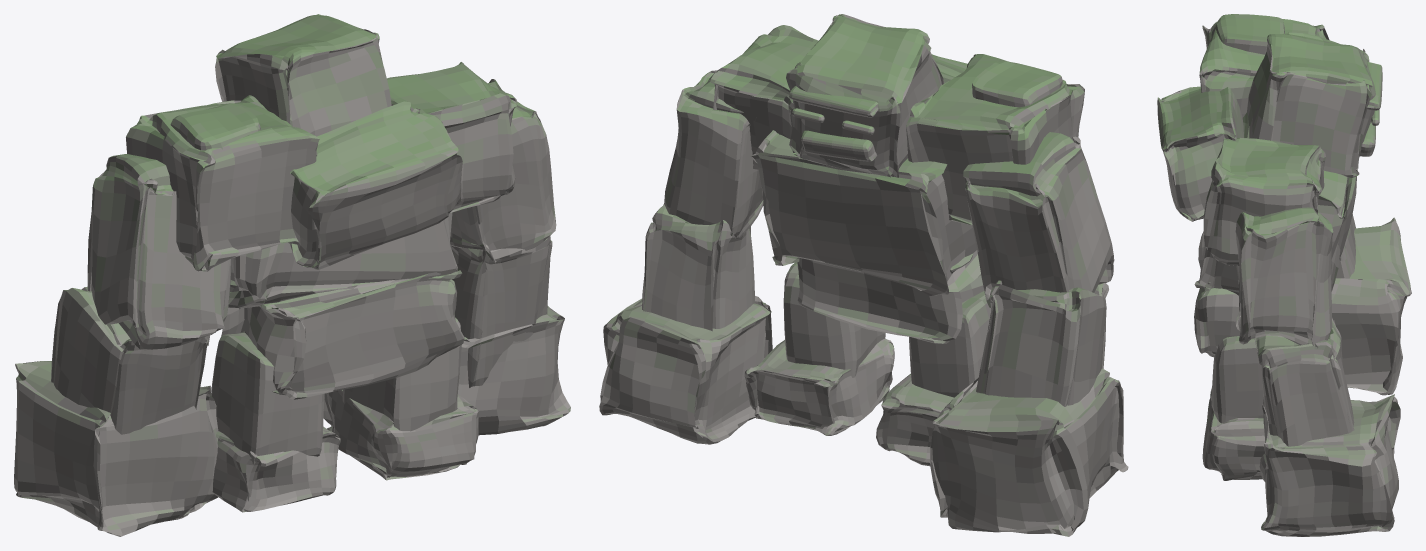
Rendered from golem_dp_body_01.glb.
3 renders of one model, left to right at view 1: azimuth 30°, elevation 25°; view 2: azimuth 150°, elevation 25°; view 3: azimuth 270°, elevation 25°, orthographic. The views are drawn at different scales.
Visible parts, largest first — view 1: golem_dp_body; view 2: golem_dp_body; view 3: golem_dp_body.
Part boxes in pixels (box(x1,y1,x2,y2)): golem_dp_body: box(14, 14, 570, 536); golem_dp_body: box(599, 14, 1128, 536); golem_dp_body: box(1157, 14, 1411, 536).
Size of the model in its own units: 3.05 by 2.58 by 1.46.
